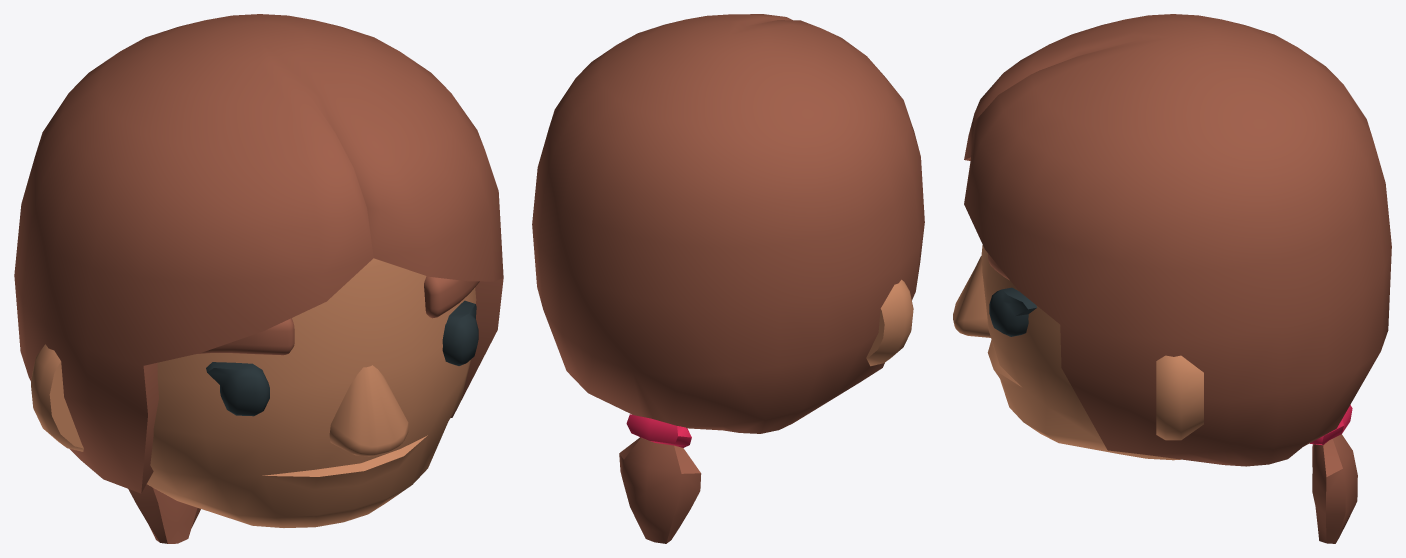
The model's file is mageHeadB.dae.
3 renders of one model, left to right at view 1: azimuth 30°, elevation 25°; view 2: azimuth 150°, elevation 25°; view 3: azimuth 270°, elevation 25°, orthographic. The views are drawn at different scales.
Visible parts, largest first — view 1: mageHairB, mageHeadB; view 2: mageHairB, mageHeadB; view 3: mageHairB, mageHeadB.
Boxes of the visible parts, bbox=[...] form: mageHairB: bbox=[14, 14, 503, 543]; mageHeadB: bbox=[31, 258, 479, 527]; mageHairB: bbox=[532, 14, 924, 543]; mageHeadB: bbox=[866, 279, 913, 366]; mageHairB: bbox=[964, 14, 1391, 543]; mageHeadB: bbox=[953, 245, 1203, 460].
Size of the model in its own units: 1.18 by 1.12 by 1.42.
